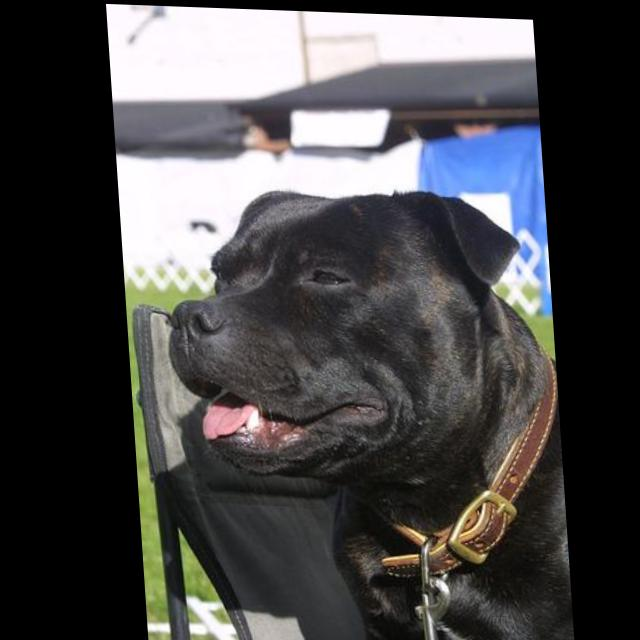amstaff: (155, 178, 568, 640)
